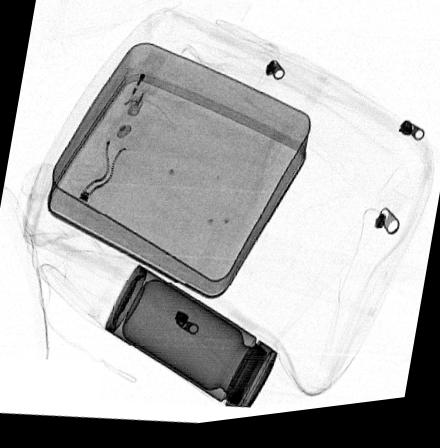Lighter: (121, 53, 166, 121)
